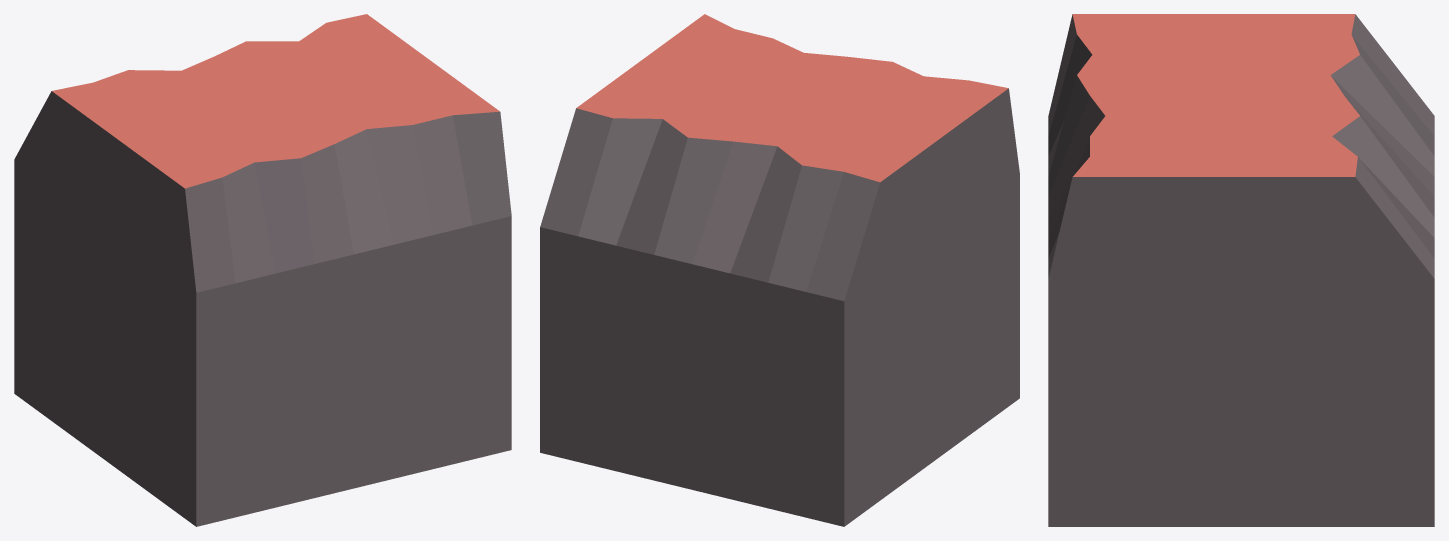
Rendered from edge2.fbx.
3 views of the same model, side by side, from view 1: azimuth 30°, elevation 25°; view 2: azimuth 150°, elevation 25°; view 3: azimuth 270°, elevation 25° (orthographic). The views are drawn at different scales.
Visible parts, largest first — view 1: edge2; view 2: edge2; view 3: edge2.
Boxes of the visible parts, x1,y1,x2,y2 form: edge2: (14, 14, 511, 526); edge2: (540, 14, 1019, 526); edge2: (1048, 14, 1434, 526).
Size of the model in its own units: 200 by 200 by 200.
